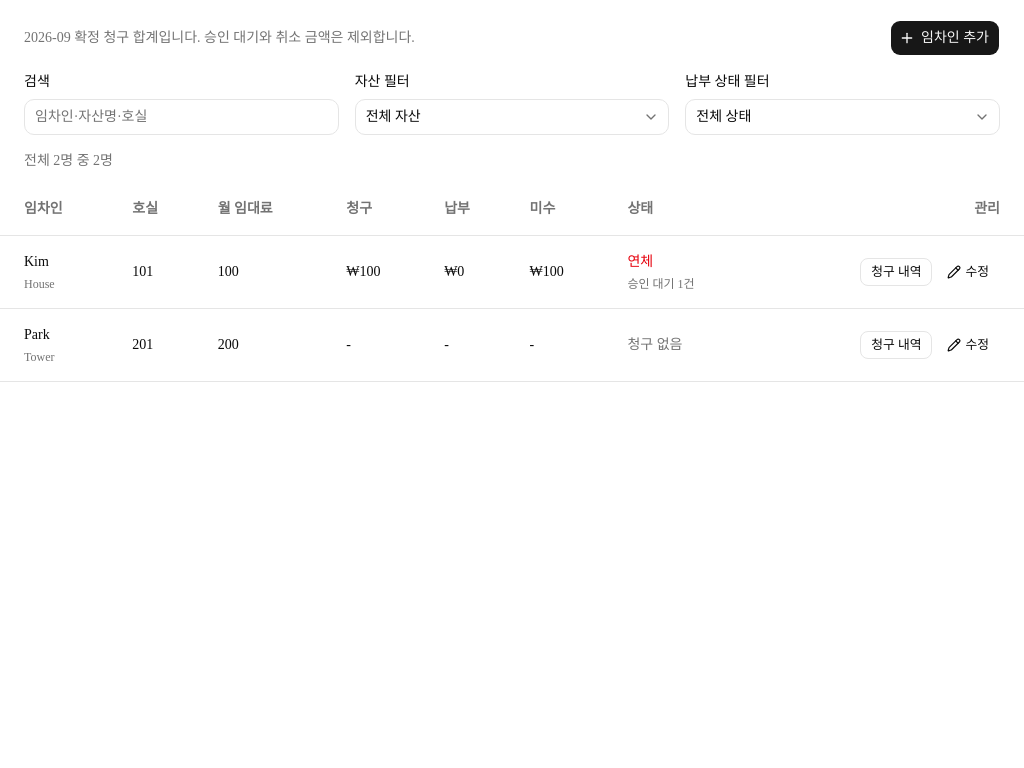
Test: opens every charge behind a tenant's total
This screenshot has width=1024, height=768.
What coordinates should you click on to do the following:
click the button with aria-label "Kim 청구 내역"
I would click on:
 (896, 272)
Its box is x1=860 y1=258 x2=932 y2=286.
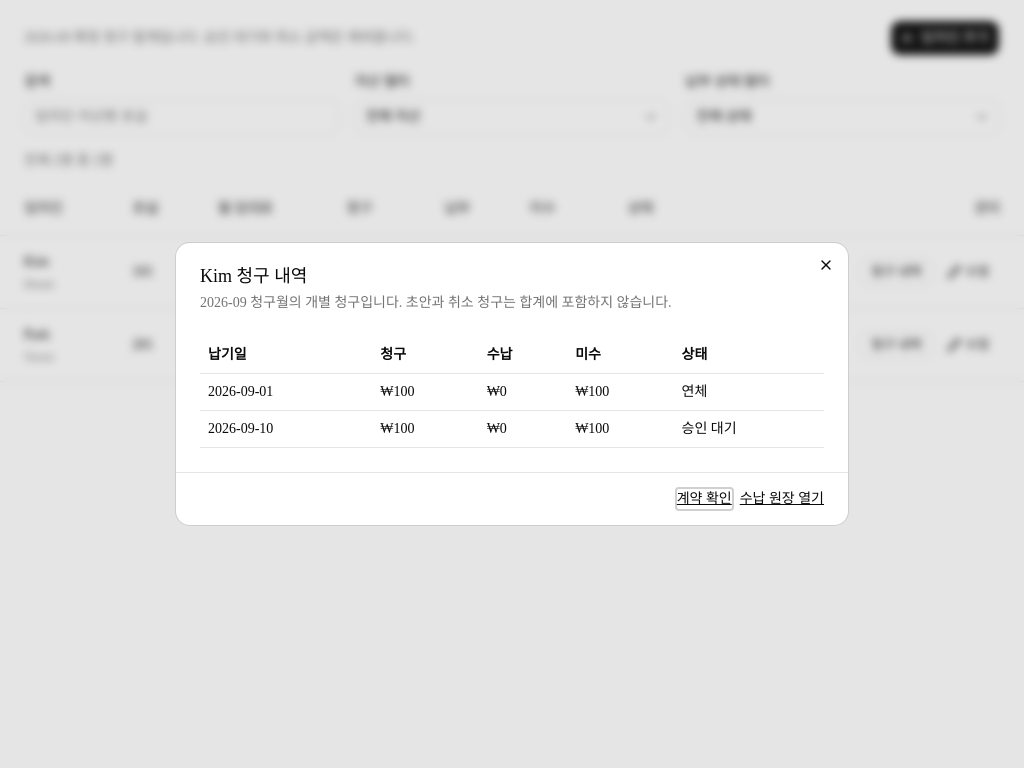
Expected: the text "2026-09-01" is shown, x1=200 y1=374 x2=372 y2=410
Expected: the text "2026-09-10" is shown, x1=200 y1=410 x2=372 y2=448
